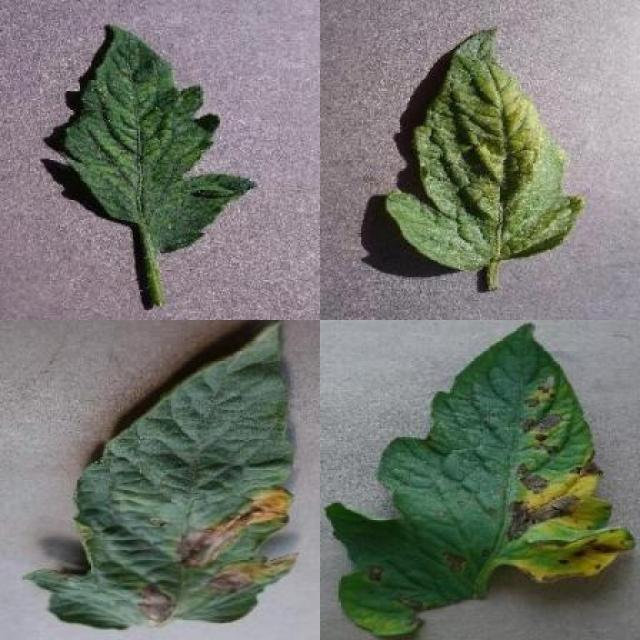Early Blight: (322, 323, 635, 640), (27, 320, 300, 630)
Mosaic Virus: (60, 28, 257, 255)
Spider Mites: (386, 27, 585, 274)
